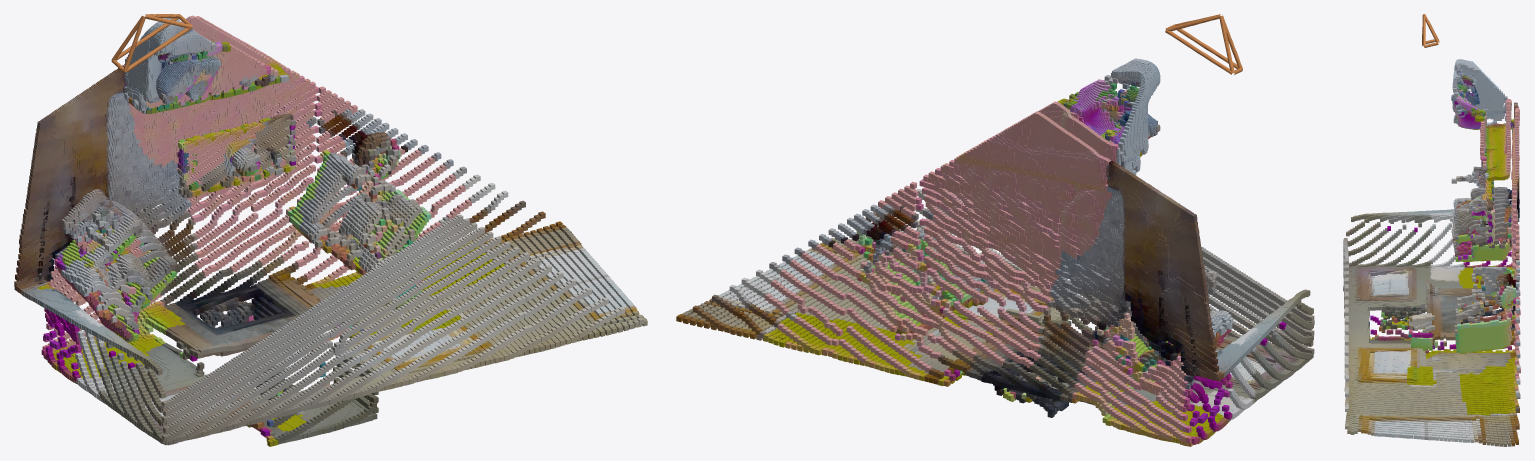
The picture shows the model from 3 angles, left to right: view 1: azimuth 30°, elevation 25°; view 2: azimuth 150°, elevation 25°; view 3: azimuth 270°, elevation 25°; orthographic projection. The views are drawn at different scales.
Size of the model in its own units: 6.11 by 4.53 by 2.45.
